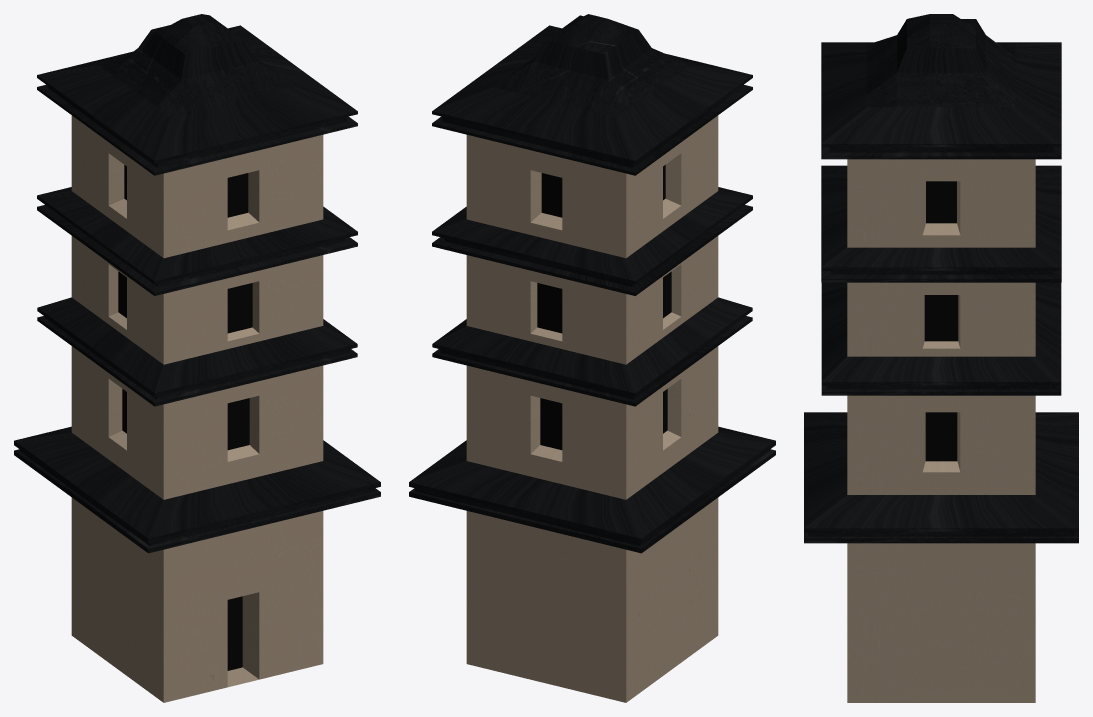
File: shrinefinal2.fbx
3 renders of one model, left to right at view 1: azimuth 30°, elevation 25°; view 2: azimuth 150°, elevation 25°; view 3: azimuth 270°, elevation 25°, orthographic. The views are drawn at different scales.
Parts seen in each view (by area): view 1: Cubo; view 2: Cubo; view 3: Cubo.
Part boxes in pixels (x1,y1,x2,y2): Cubo: (14, 14, 380, 702); Cubo: (409, 14, 775, 702); Cubo: (804, 14, 1078, 702).
Bounding box in the file's own units: 3636 × 9403 × 3636.
Materials: 3 (2 with a texture image).
